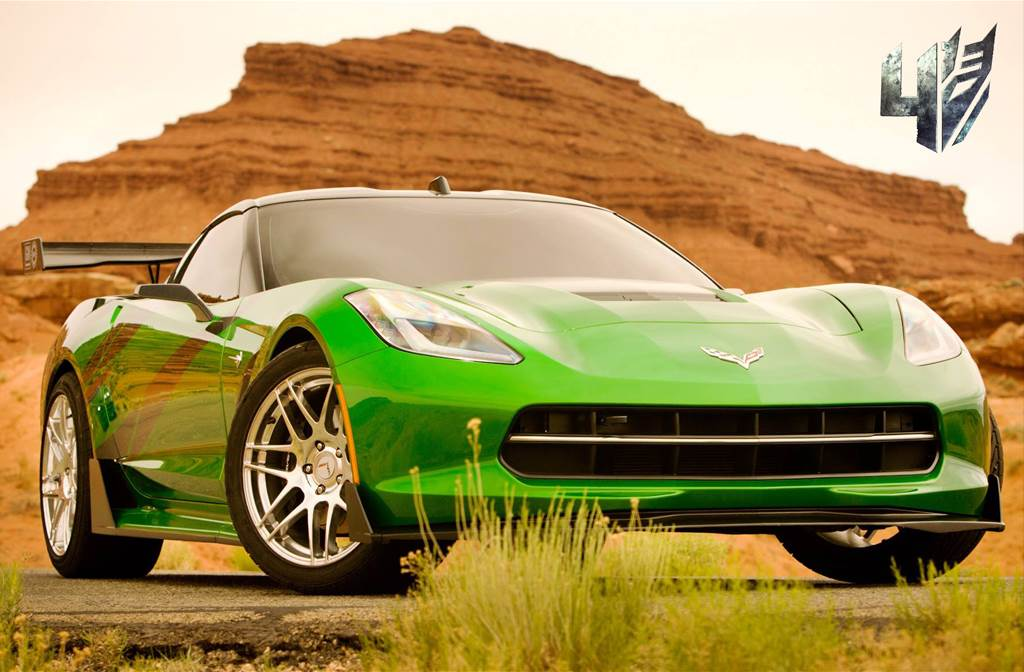headlight: (340, 277, 519, 365), (888, 282, 972, 370)
wheel: (212, 348, 470, 591), (25, 366, 165, 581), (772, 510, 993, 577)
